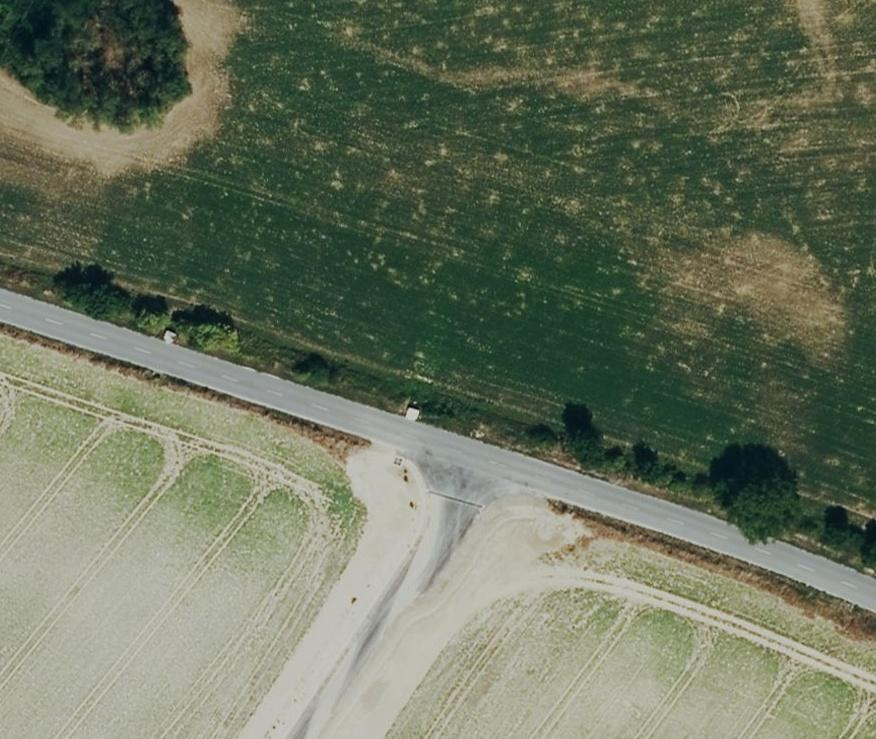field: (0, 2, 876, 547), (0, 333, 876, 737)
forest: (561, 431, 801, 542), (0, 1, 190, 130), (53, 262, 240, 355)
